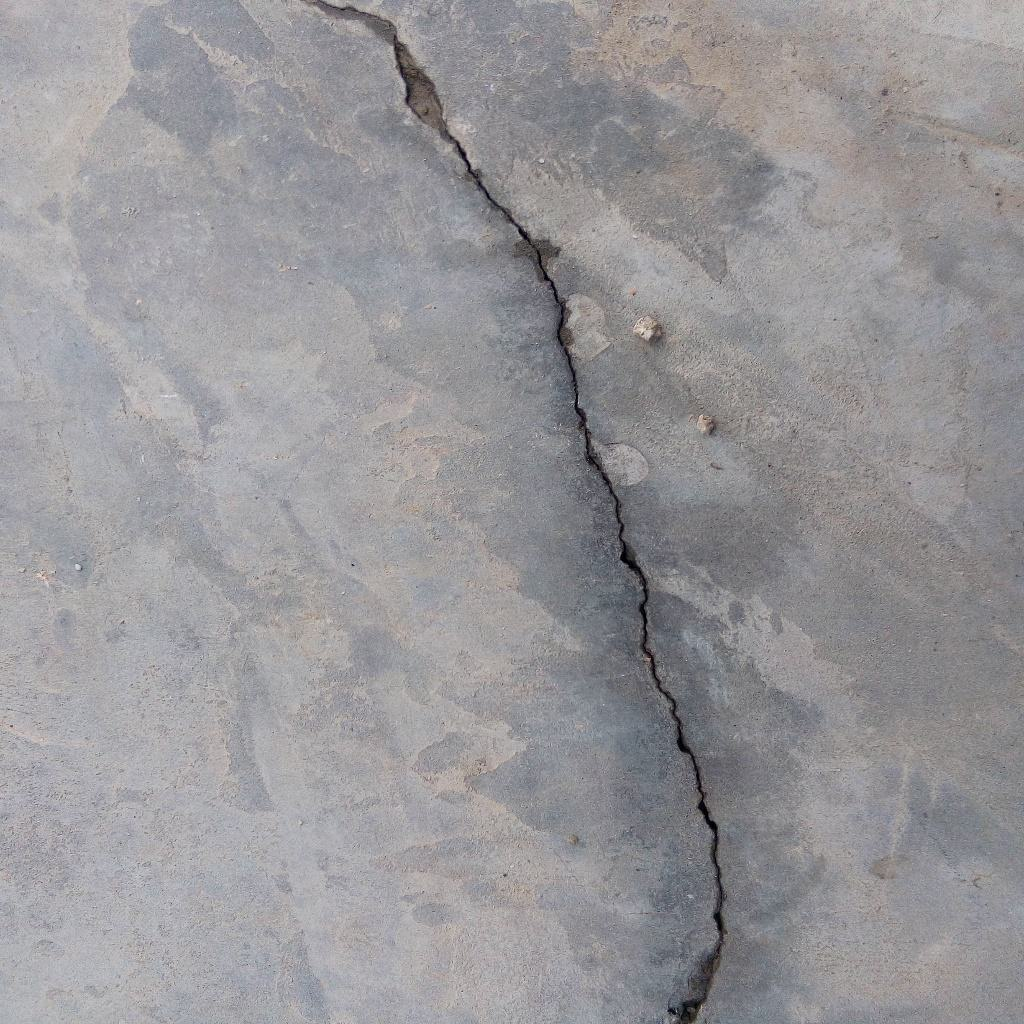Crack: (304, 1, 727, 1024)
